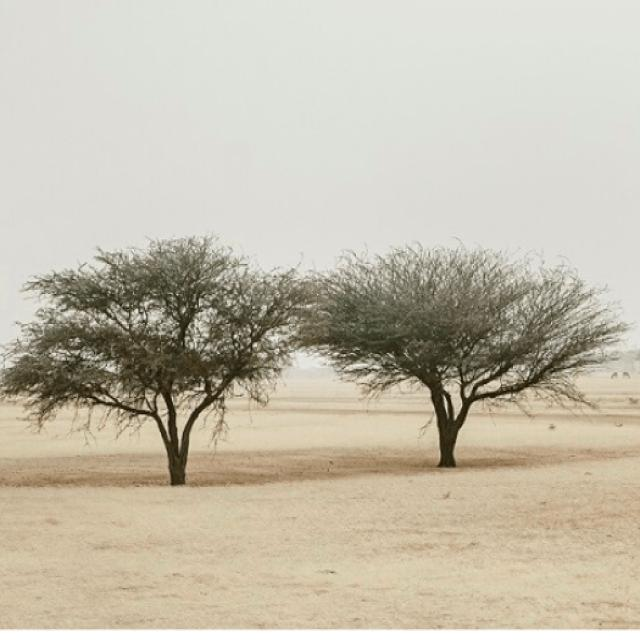Acacia: (304, 239, 632, 464), (8, 217, 292, 476)
